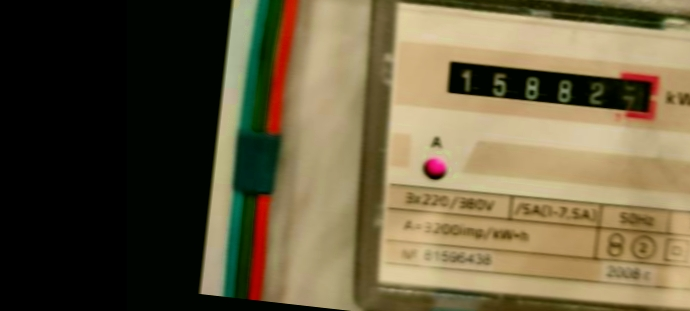1: (458, 69, 474, 96)
2: (587, 82, 605, 107)
5: (489, 72, 508, 100)
7: (620, 93, 636, 114)
8: (522, 77, 541, 104), (555, 79, 573, 106)
screen: (430, 46, 668, 134)
